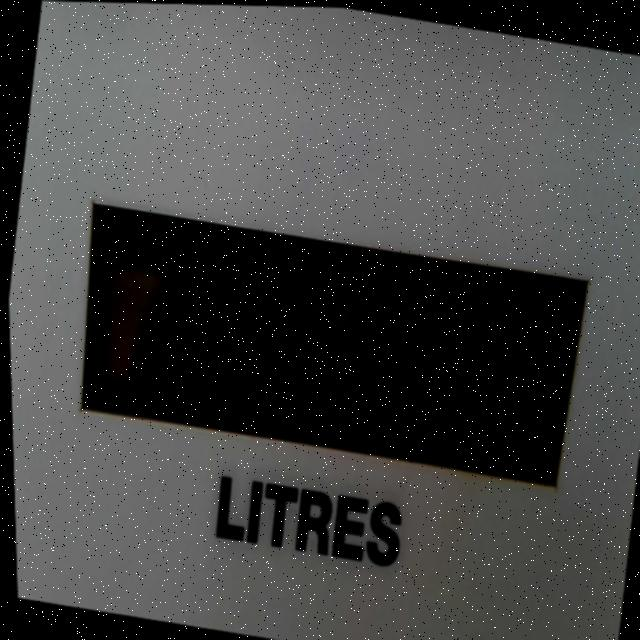.: (362, 386, 403, 446)
3: (310, 247, 398, 424)
4: (381, 250, 485, 435)
5: (233, 228, 330, 410)
9: (464, 262, 568, 461)
